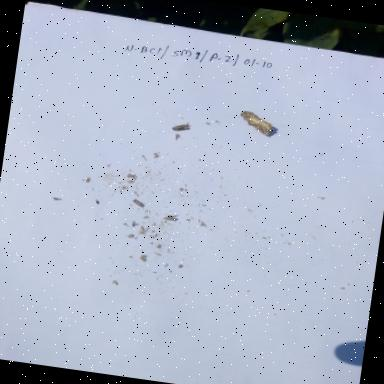pbw: (235, 107, 277, 137), (168, 114, 196, 134), (161, 212, 181, 224), (130, 197, 146, 208), (171, 132, 183, 142)
